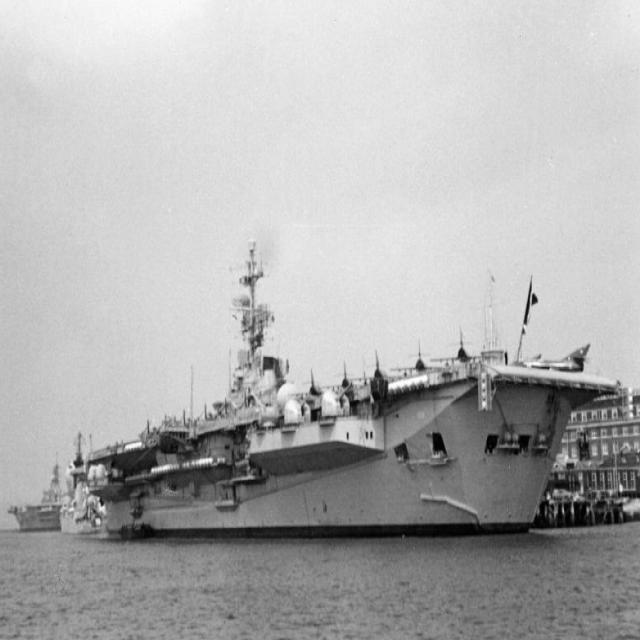Portanaves: (74, 242, 616, 539)
